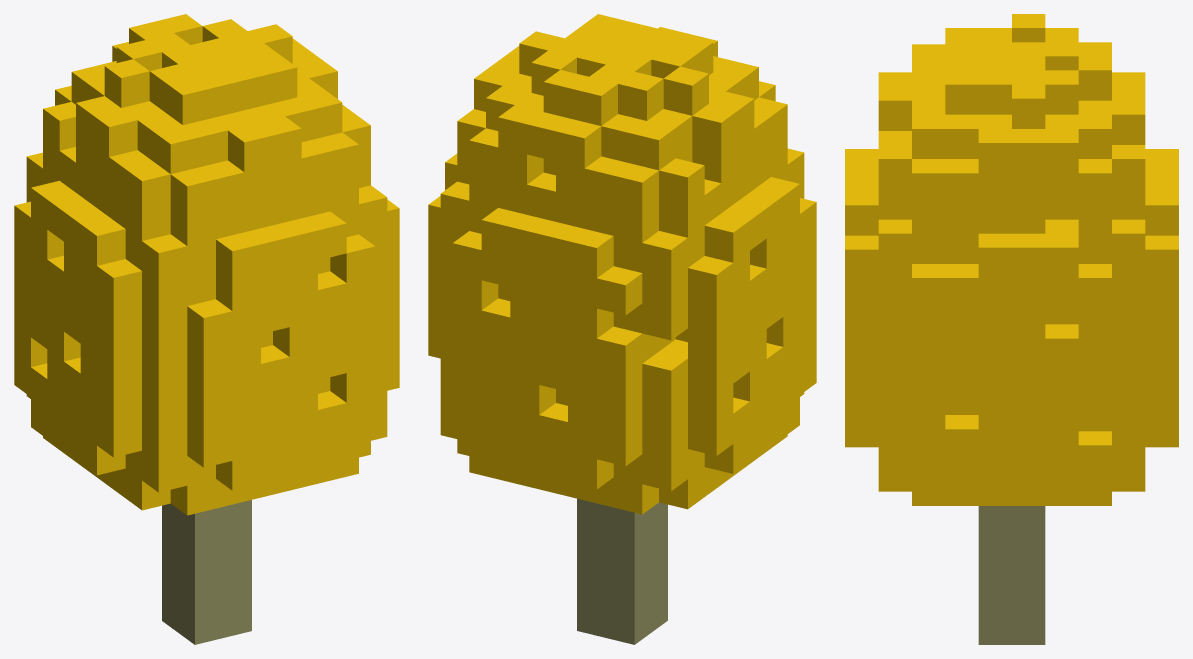
File: obj_tree2b.obj
3 renders of one model, left to right at view 1: azimuth 30°, elevation 25°; view 2: azimuth 150°, elevation 25°; view 3: azimuth 270°, elevation 25°, orthographic.
Size of the model in its own units: 1 by 1.9 by 1.
1 material, 1 textured.
